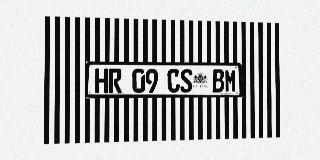0: (132, 69, 145, 93)
9: (145, 69, 158, 93)
B: (212, 69, 224, 92)
C: (167, 69, 180, 93)
H: (95, 68, 108, 93)
M: (225, 69, 236, 92)
R: (109, 68, 122, 93)
S: (180, 69, 192, 93)
